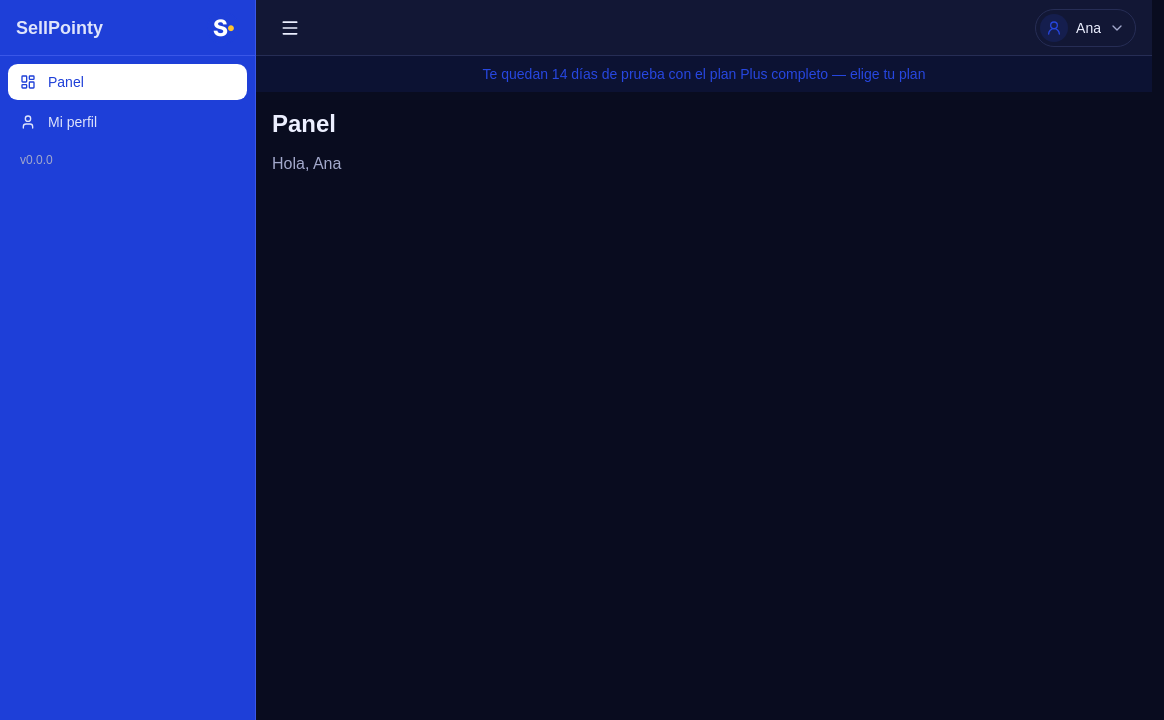
Test: el logotipo del sidebar › contraído: el logotipo REEMPLAZA a «SP», y con nombre accesible
What coordinates should you click on to do the following:
click the button named "Abrir o cerrar el menú"
I would click on:
 (290, 28)
Its box is [272, 10, 308, 46].
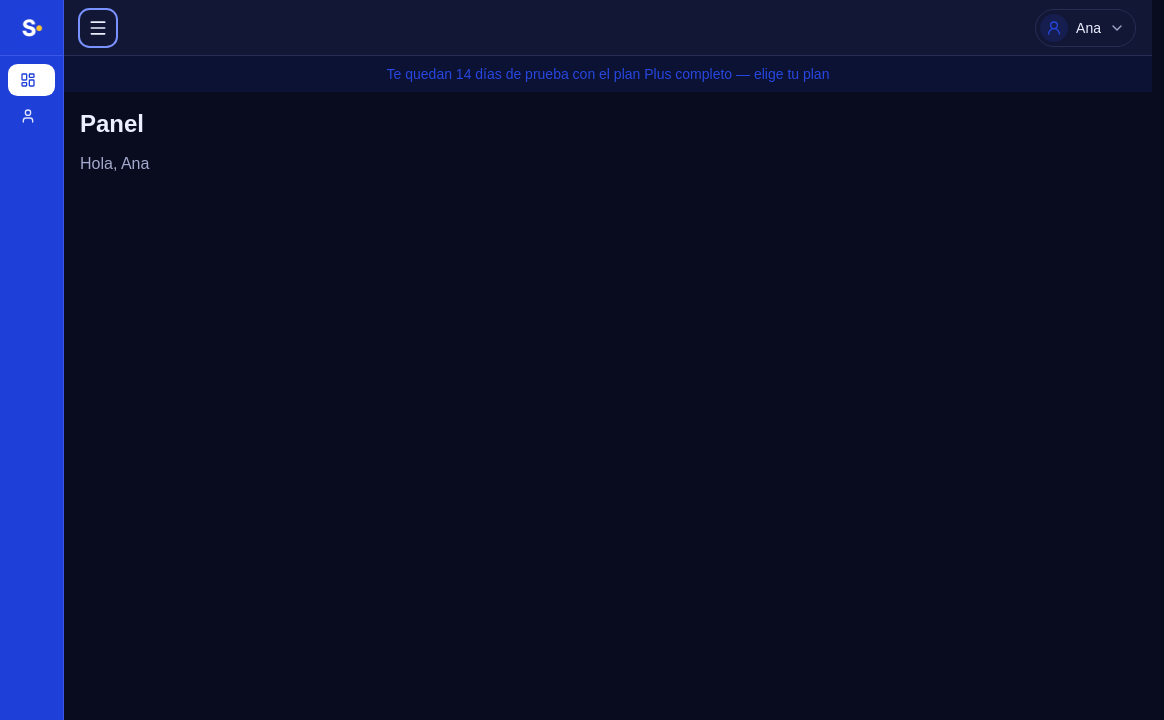
Check: the text "SellPointy" is gone
